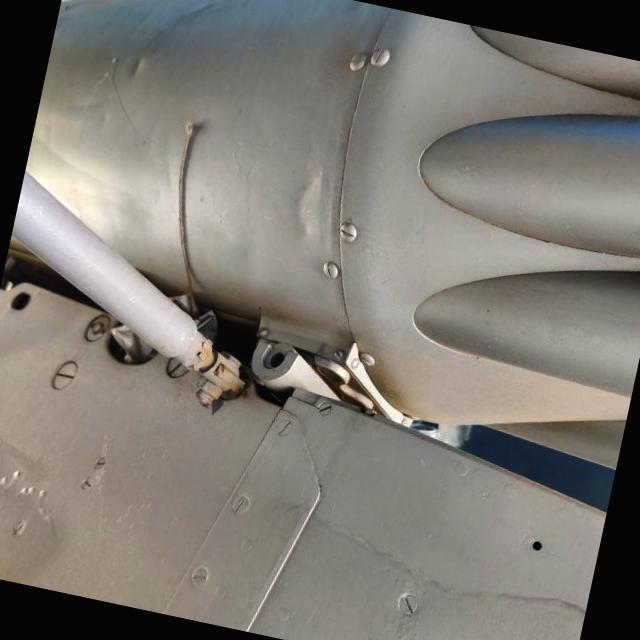dent: (268, 159, 349, 250)
